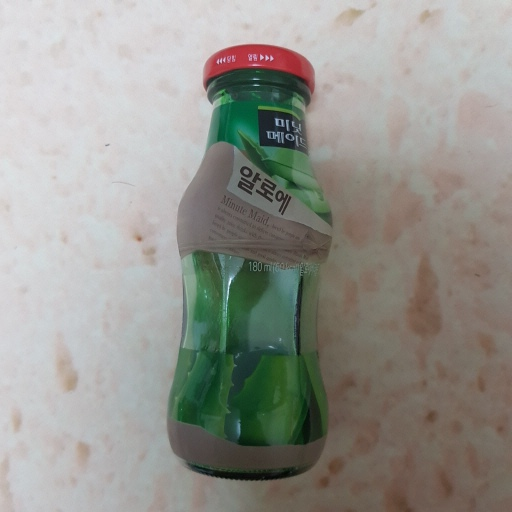Glass_4: (164, 43, 337, 481)
